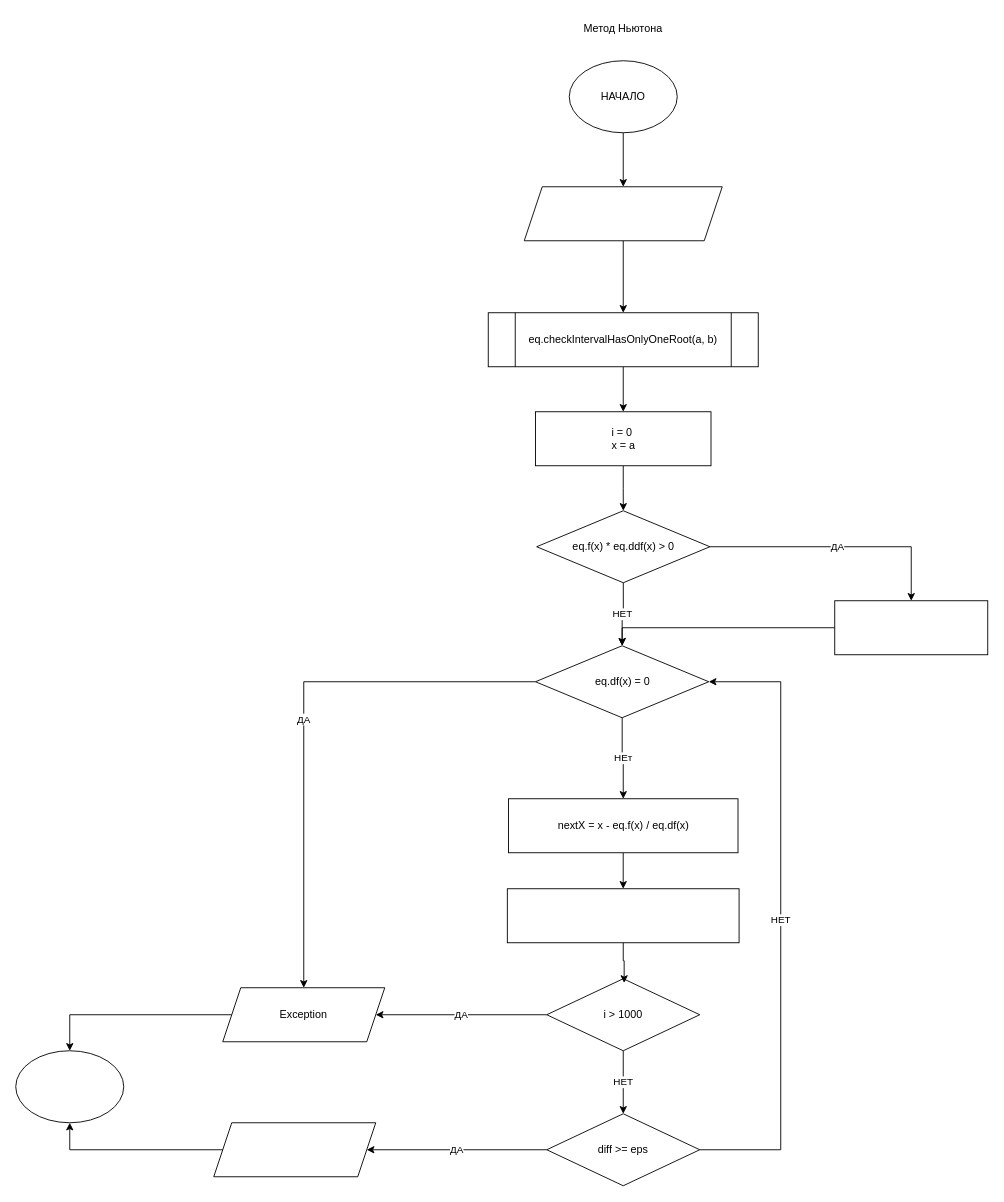
Some shapes in this 1004 by 1202 pixel diagram are drawn without their labels. The shapes that lost their labels are listed below. From the top down, each one's centre as x and y in pixels, then its label:
point 622,213: a, b, eps, eq
point 911,627: x = b
point 622,915: diff = abs(nextX - x) x = nextX i = i + 1
point 69,1086: КОНЕЦ
point 294,1149: x, i, eq.f(x)
